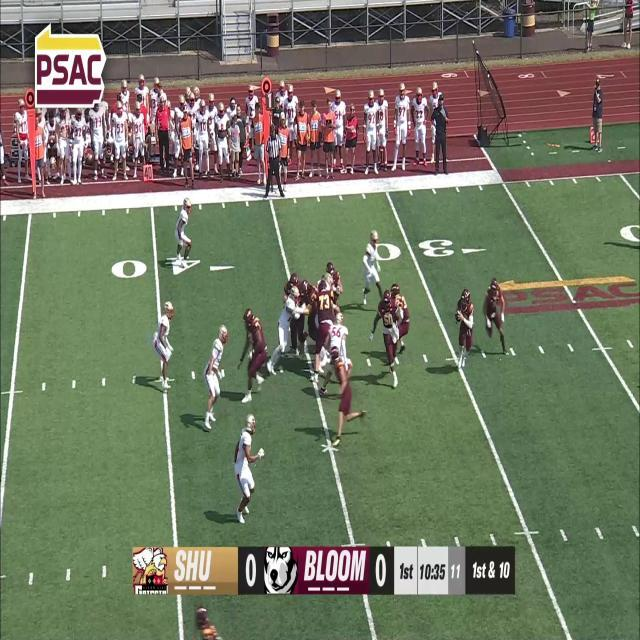football: (453, 308, 462, 324)
